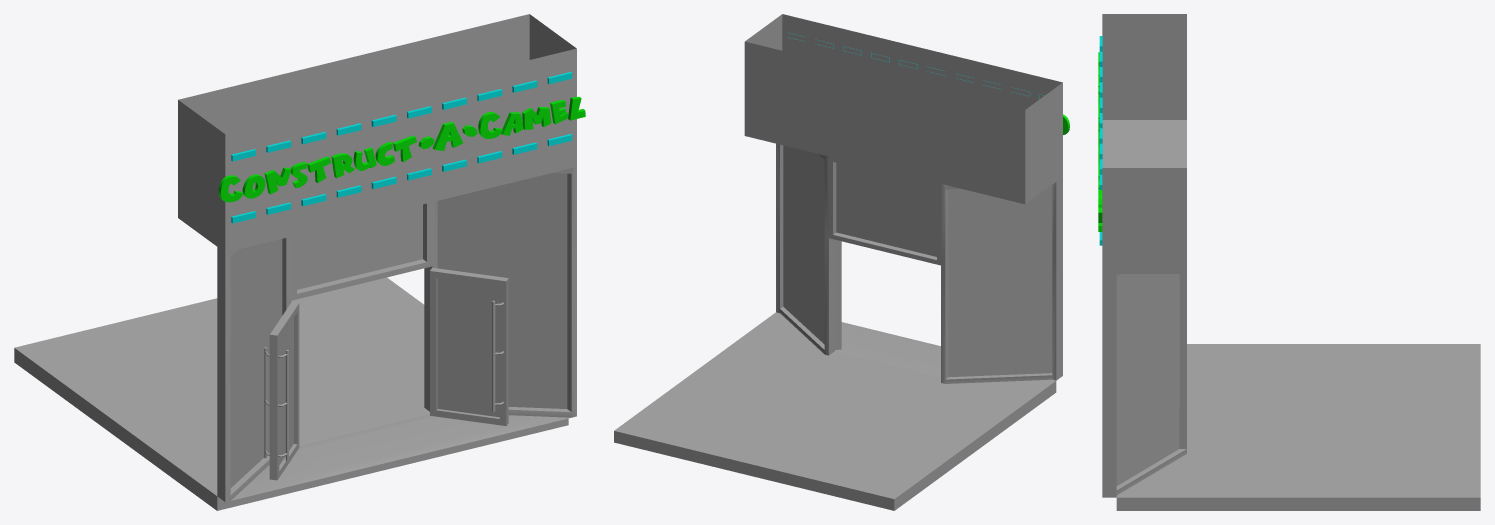
The model's file is CS_SM_StrFr_CAC.fbx.
The picture shows the model from 3 angles, left to right: view 1: azimuth 30°, elevation 25°; view 2: azimuth 150°, elevation 25°; view 3: azimuth 270°, elevation 25°; orthographic projection. The views are drawn at different scales.
Parts seen in each view (by area): view 1: SM_StrFr; view 2: SM_StrFr; view 3: SM_StrFr.
Part boxes in pixels (bbox=[...]): SM_StrFr: bbox=[14, 14, 585, 510]; SM_StrFr: bbox=[614, 14, 1069, 510]; SM_StrFr: bbox=[1098, 14, 1480, 510].
Bounding box in the file's own units: 519 × 520 × 526.
